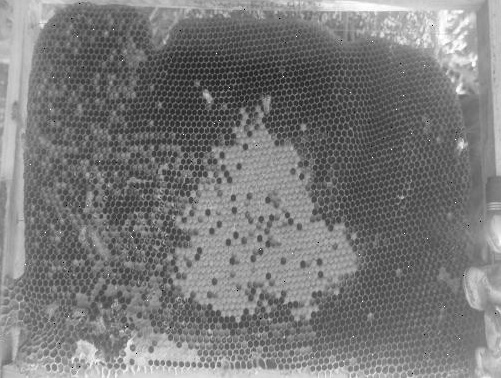cria: (165, 102, 407, 323)
